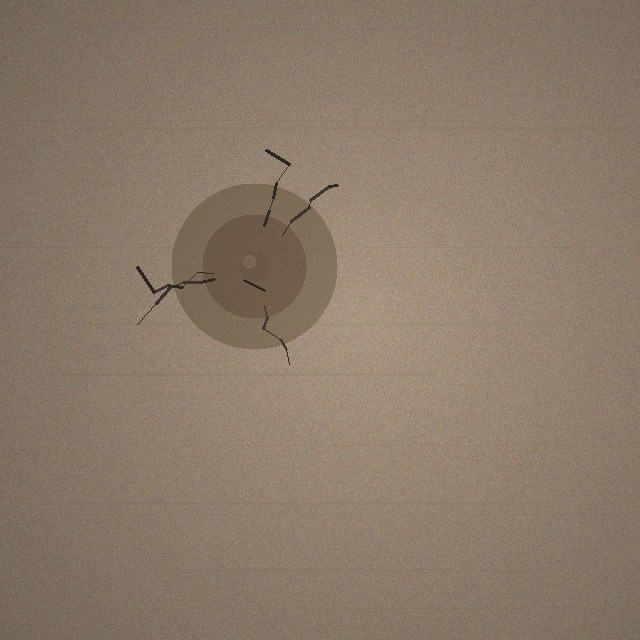crack: (171, 183, 337, 349)
